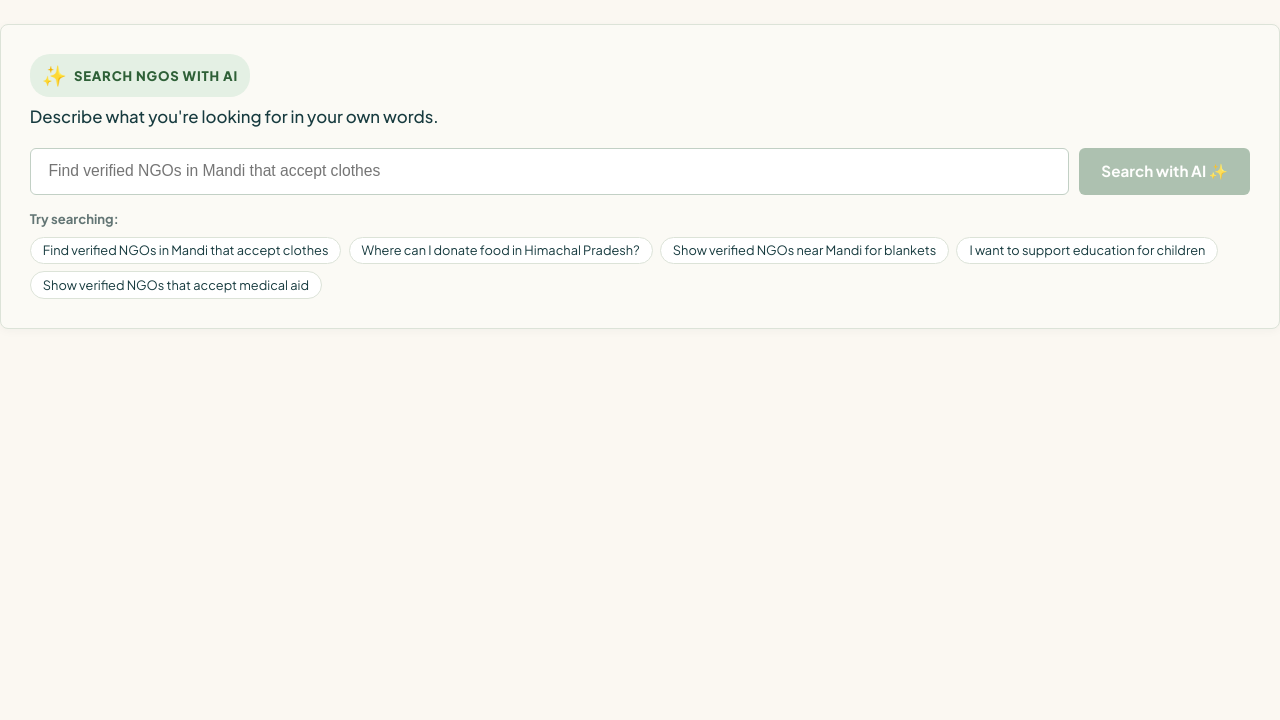
Test: Feature 3: AI-Powered NGO Search UI › 4. renders empty state with suggestions when 0 matches found
Type "NGOs in Antarctica" into the search field with placeholder "Find verified NGOs in Mandi that accept clothes" at (550, 171), box [30,148,1069,195]
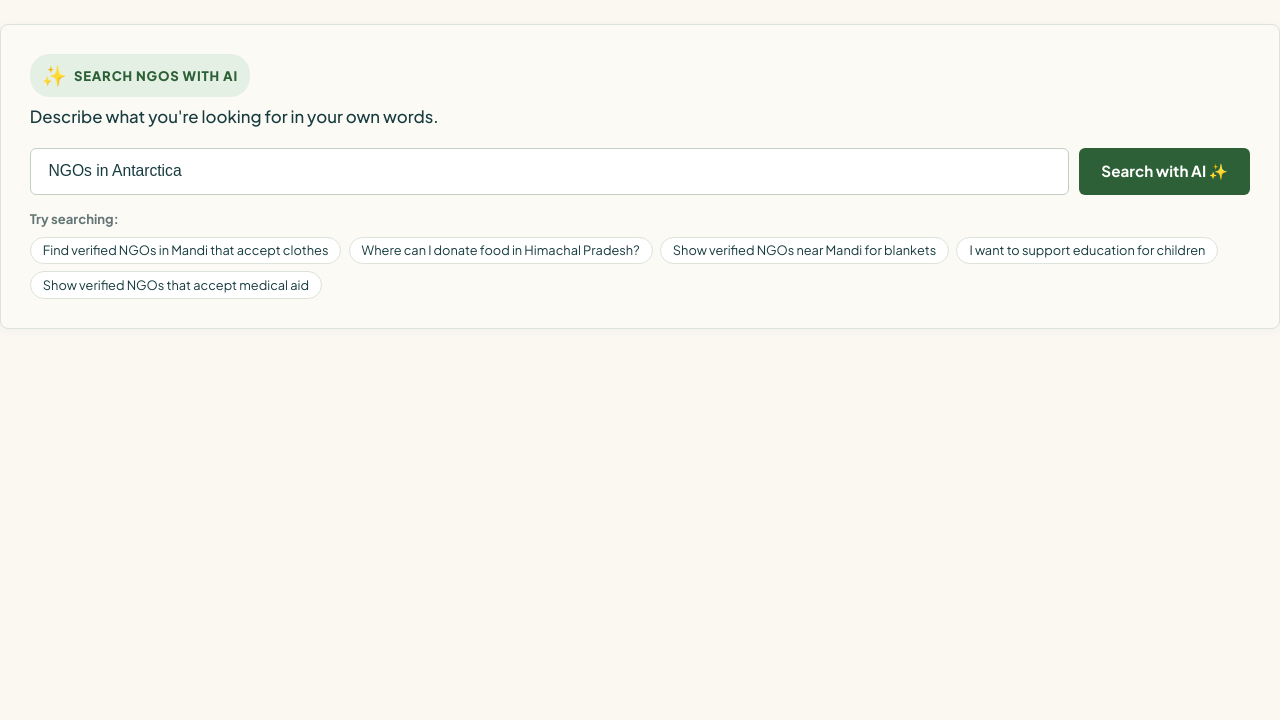
Click the button "Search with AI ✨" at (1165, 171), box [1079,148,1250,195]
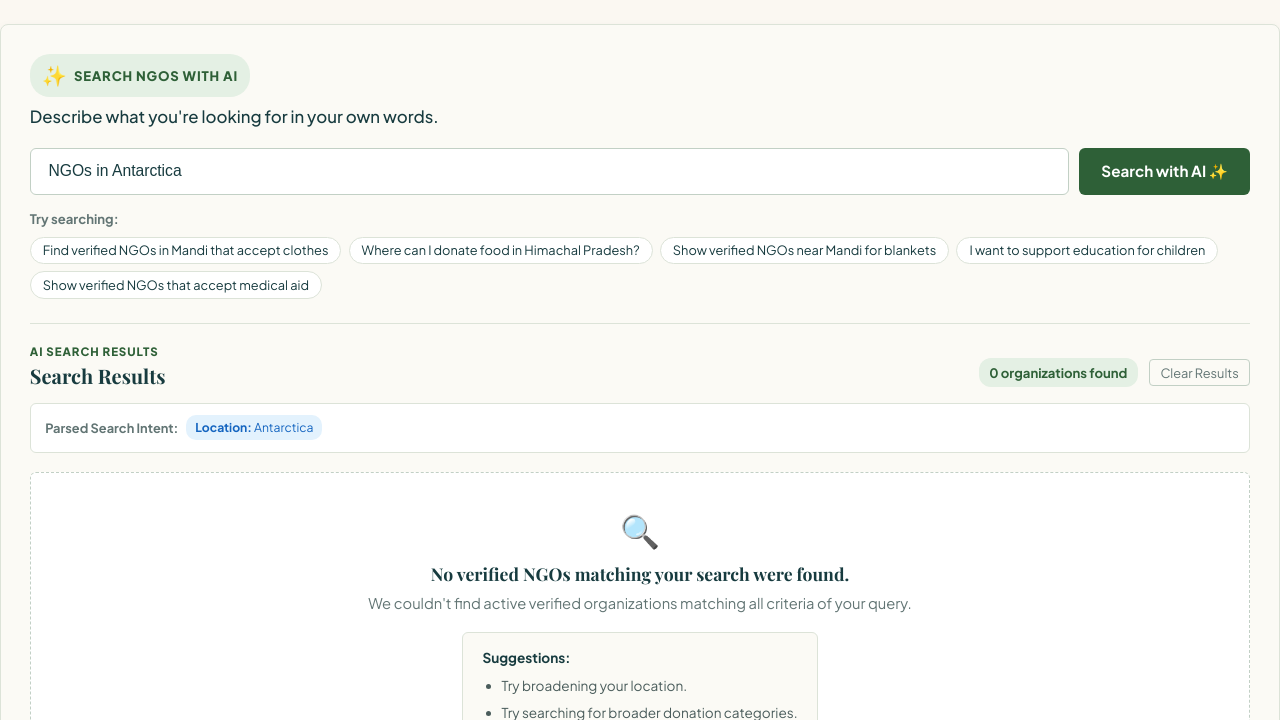
Expected: the heading "No verified NGOs matching your search were found." is shown, [431,562,849,585]
Expected: the list item "Try broadening your location." is shown, [502,677,687,694]
